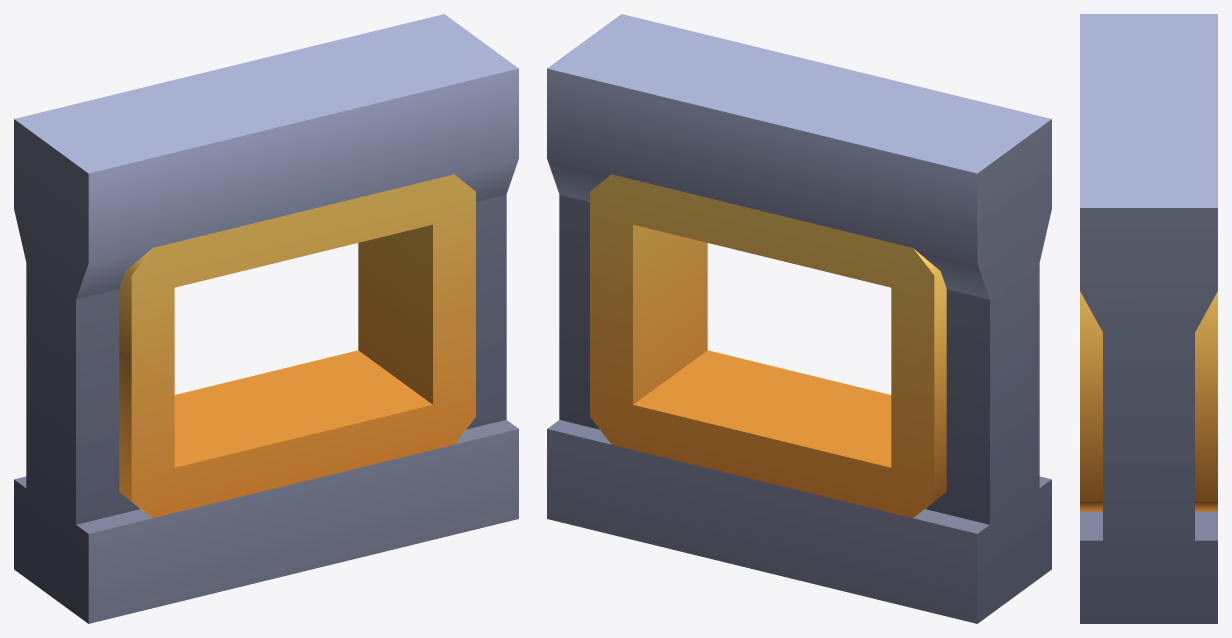
The model's file is kenney-space-station-wall-window.glb.
The picture shows the model from 3 angles, left to right: view 1: azimuth 30°, elevation 25°; view 2: azimuth 150°, elevation 25°; view 3: azimuth 270°, elevation 25°; orthographic projection. The views are drawn at different scales.
Parts seen in each view (by area): view 1: wall-window; view 2: wall-window; view 3: wall-window.
Boxes of the visible parts, bbox=[...] form: wall-window: bbox=[14, 14, 518, 623]; wall-window: bbox=[547, 14, 1051, 623]; wall-window: bbox=[1080, 14, 1217, 623].
Size of the model in its own units: 1 by 1 by 0.3.
1 material, 1 textured.
